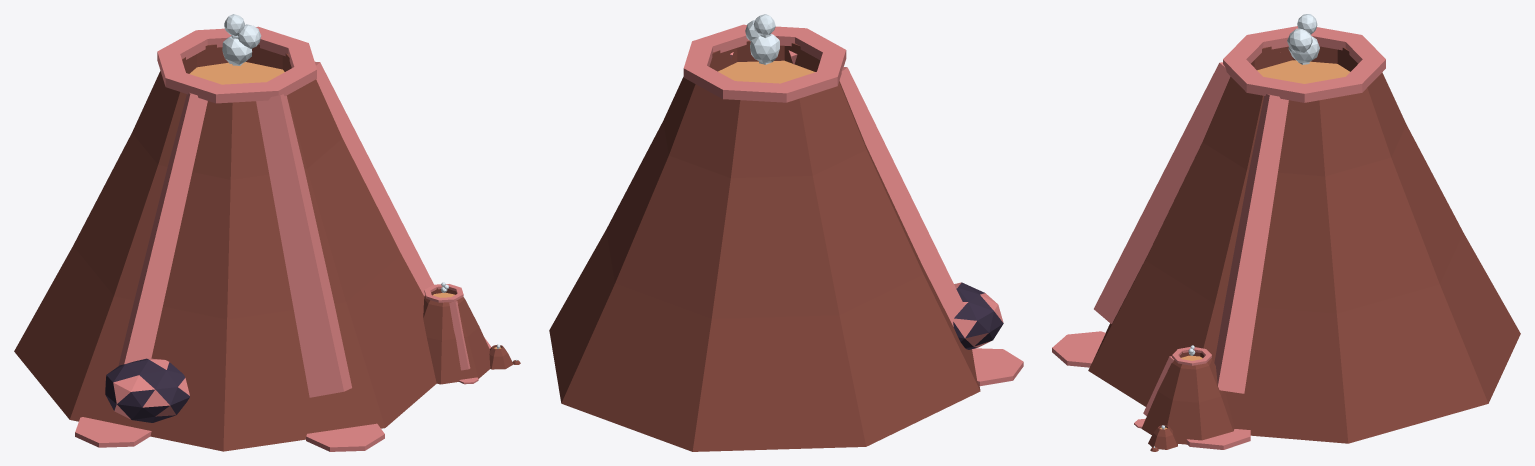
The model's file is volcanic-g3.glb.
3 views of the same model, side by side, from view 1: azimuth 30°, elevation 25°; view 2: azimuth 150°, elevation 25°; view 3: azimuth 270°, elevation 25° (orthographic). The views are drawn at different scales.
Parts seen in each view (by area): view 1: volcanic-g3; view 2: volcanic-g3; view 3: volcanic-g3.
Part boxes in pixels (x1,y1,x2,y2): volcanic-g3: (14, 14, 520, 451); volcanic-g3: (549, 14, 1023, 451); volcanic-g3: (1052, 14, 1520, 451).
Bounding box in the file's own units: 5.61 × 4.46 × 5.63.
